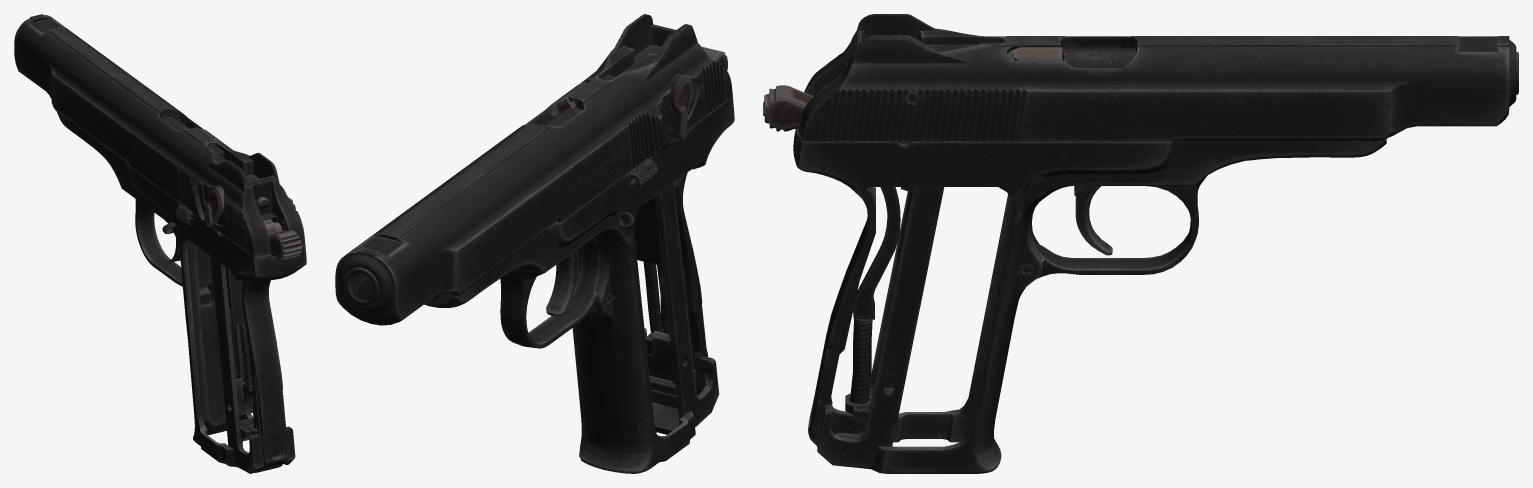
3 views of the same model, side by side, from view 1: azimuth 30°, elevation 25°; view 2: azimuth 150°, elevation 25°; view 3: azimuth 270°, elevation 25° (orthographic). The views are drawn at different scales.
Parts seen in each view (by area): view 1: TW_5a17f98cfcdbcb0980087290_PZ_Import; view 2: TW_5a17f98cfcdbcb0980087290_PZ_Import; view 3: TW_5a17f98cfcdbcb0980087290_PZ_Import.
Boxes of the visible parts, x1,y1,x2,y2 form: TW_5a17f98cfcdbcb0980087290_PZ_Import: (14,14,306,473); TW_5a17f98cfcdbcb0980087290_PZ_Import: (335,14,734,473); TW_5a17f98cfcdbcb0980087290_PZ_Import: (763,14,1518,473).
Size of the model in its own units: 0.0182 by 0.1353 by 0.0857.
Materials: 1 (1 with a texture image).
